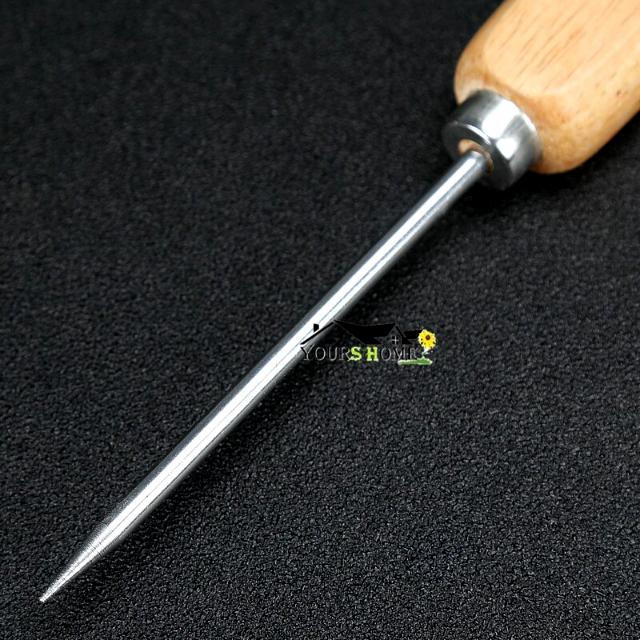ice pick: (38, 0, 640, 604)
